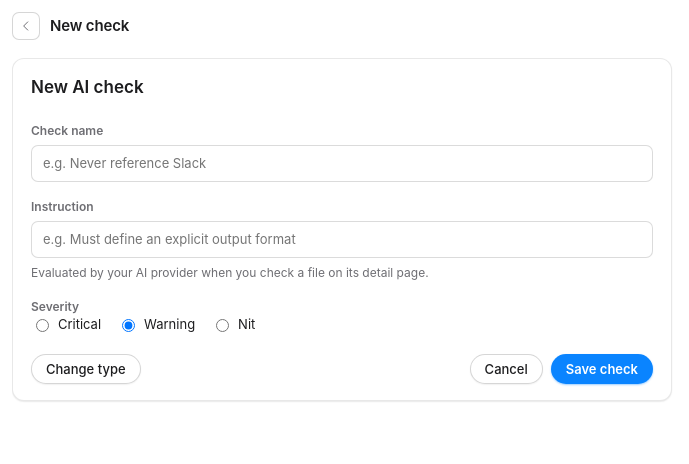
it: AddCheck › blocks the natural-language save when the deep link outran the provider check
In the field labelled "Check name": (342, 163) [31,145,653,182], type "Names its escape hatch"
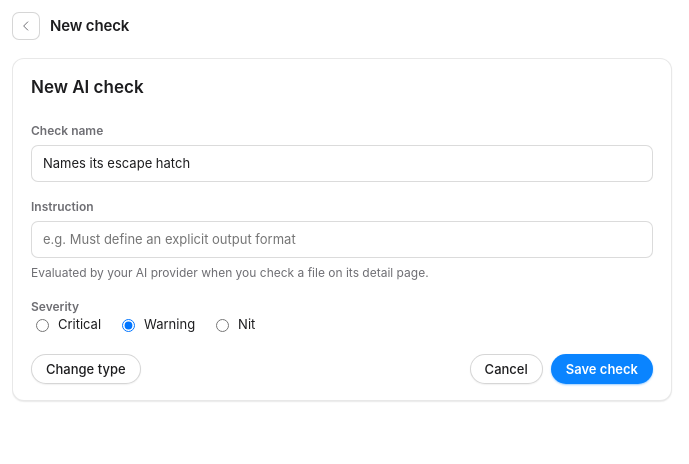
In the field labelled "Instruction": (342, 240) [31,221,653,258], type "Must say what to do"
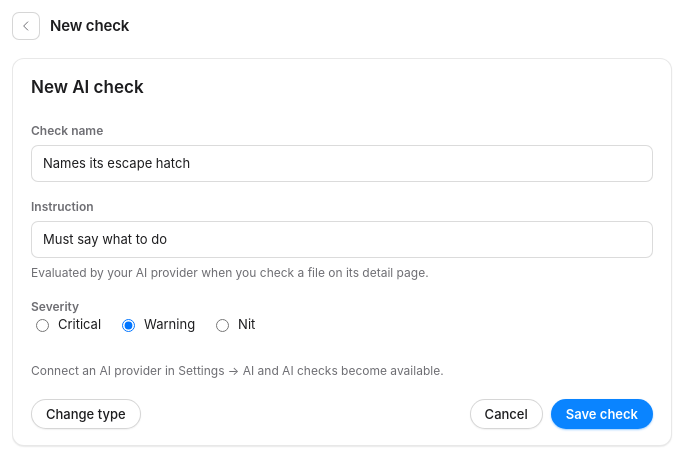
Expected: the button "Save check" is disabled, [551,399,653,429]
Result: the text "Connect an AI provider" is shown at [31,363,444,378]
